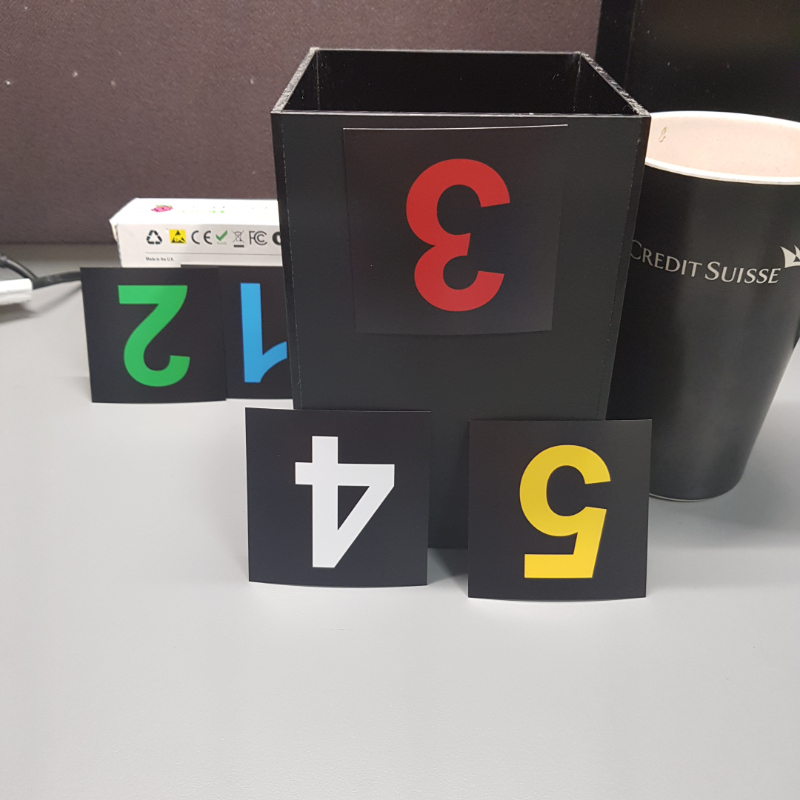Five-10: (475, 429, 638, 589)
Four-9: (254, 416, 419, 577)
Three-8: (359, 144, 545, 323)
Two-7: (99, 272, 218, 395)
